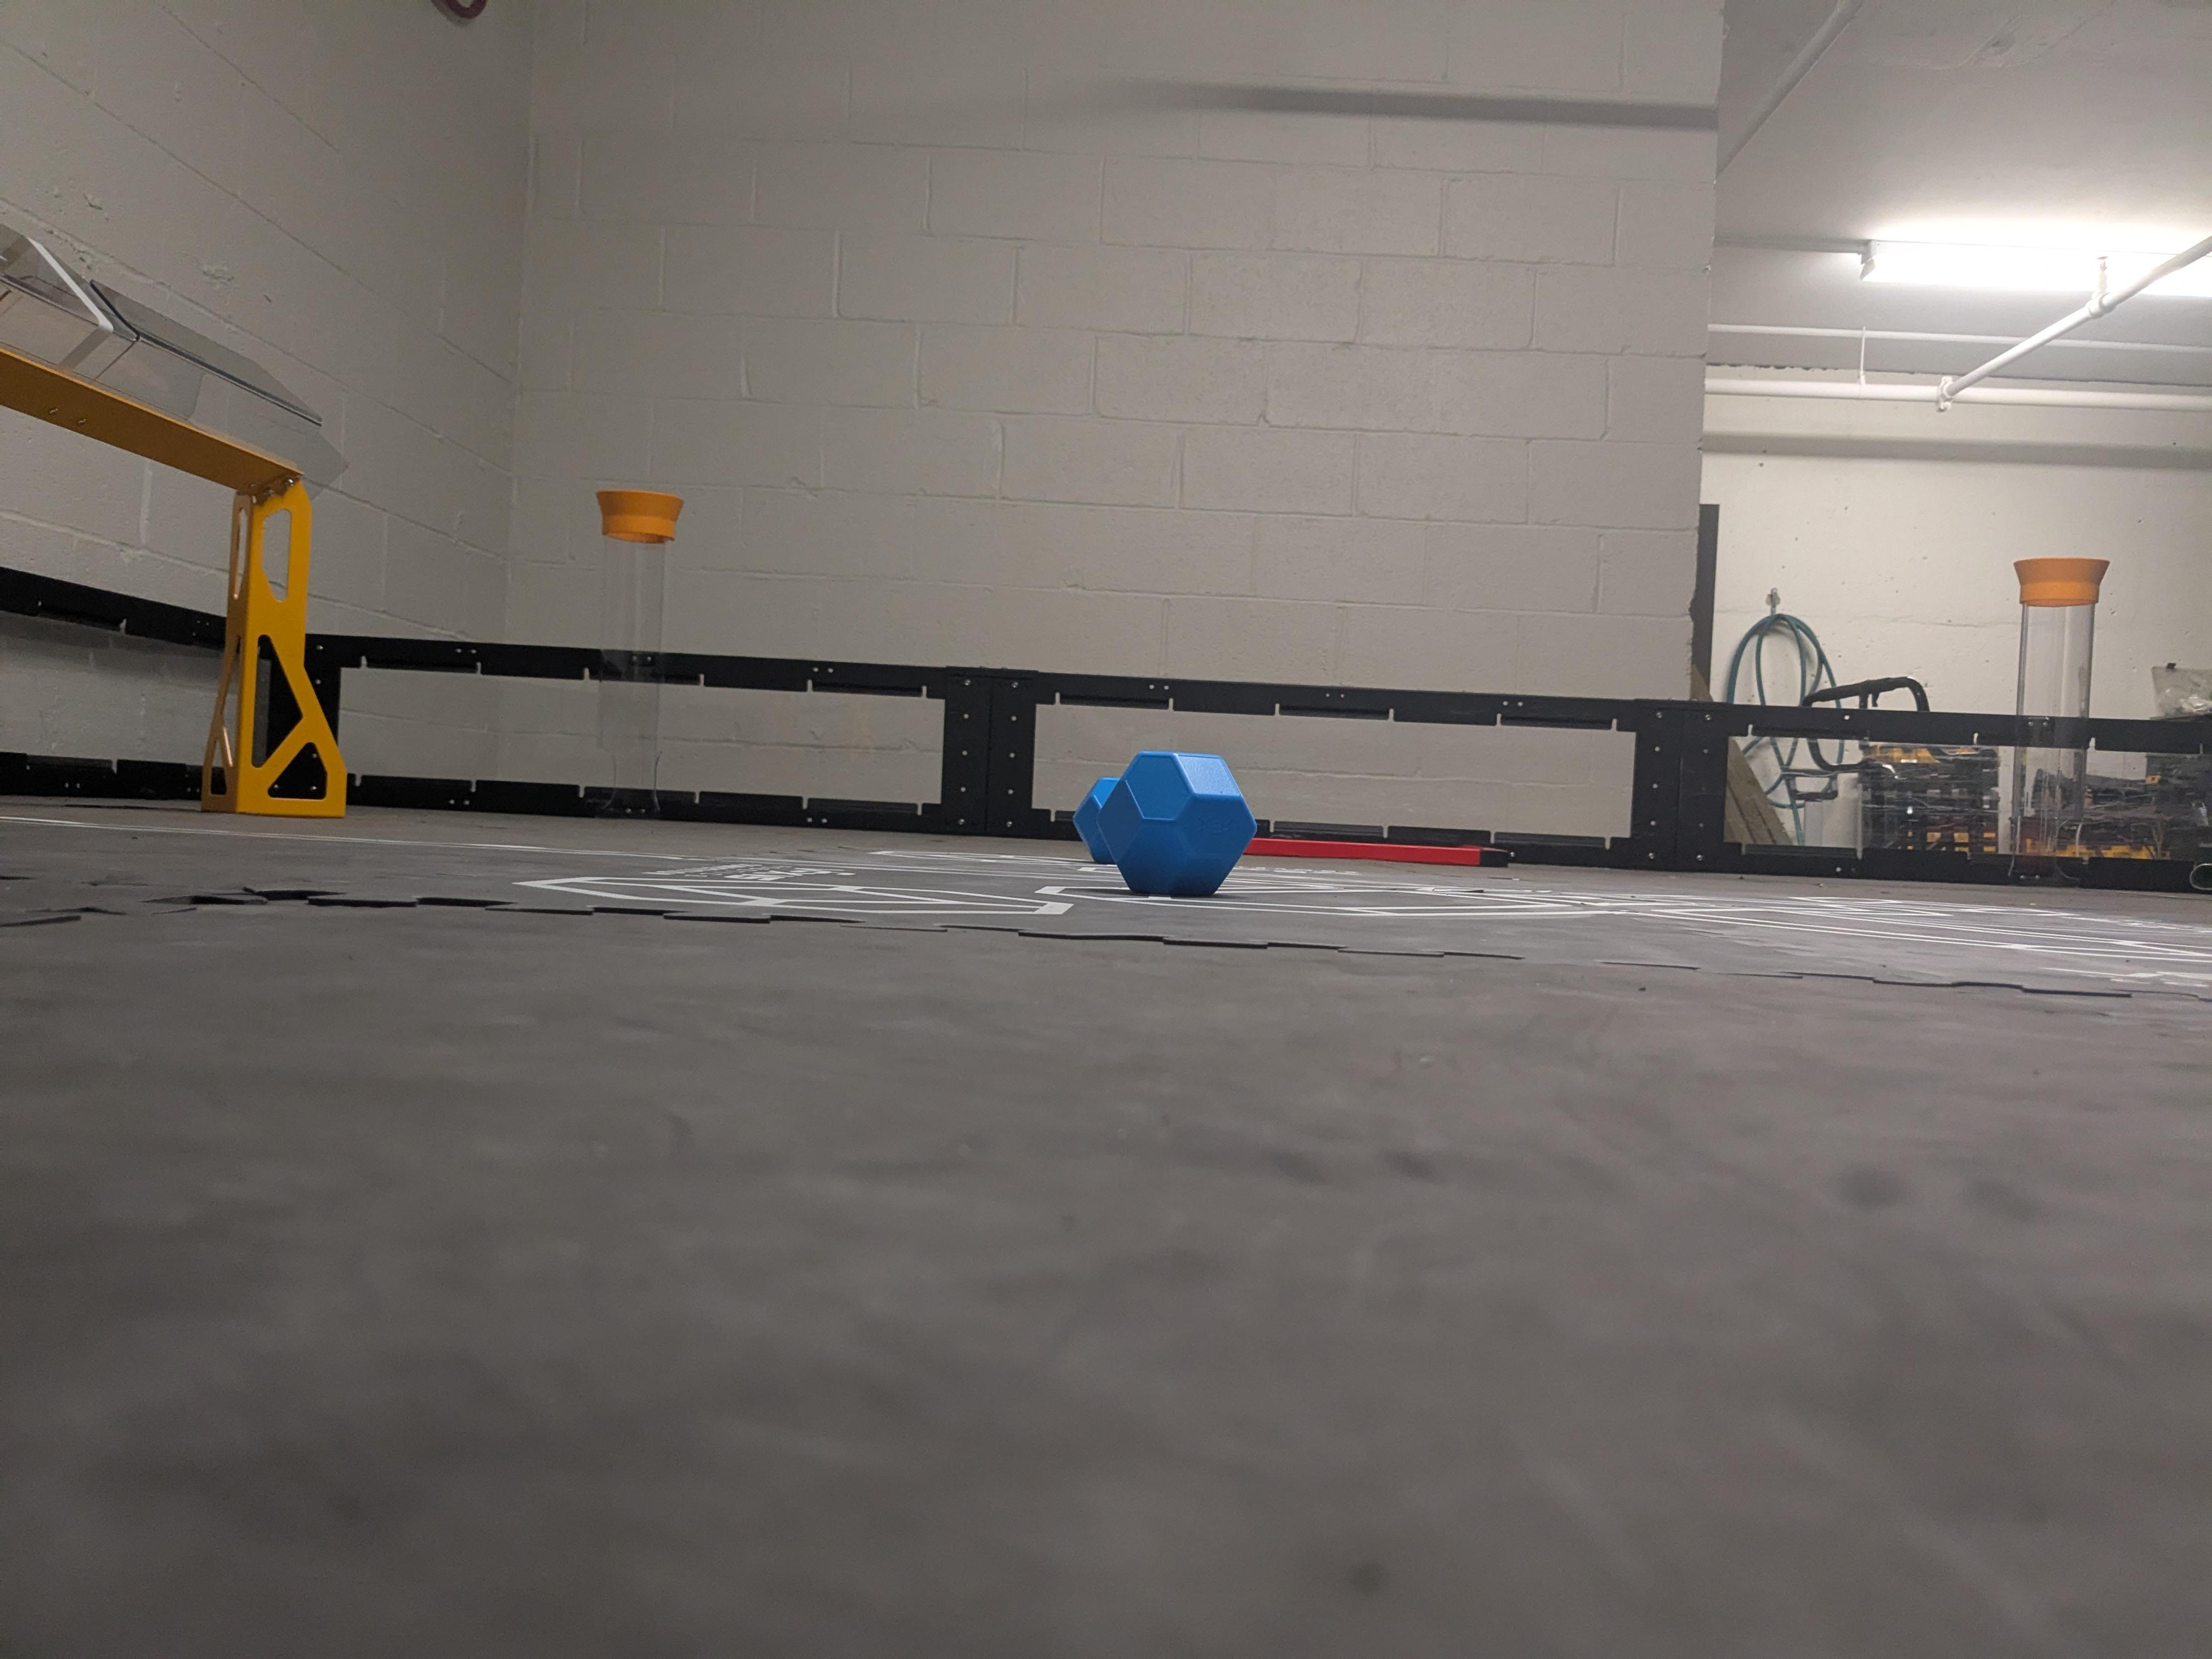Vex-Pieces-BLUE: (1075, 751, 1254, 894)
